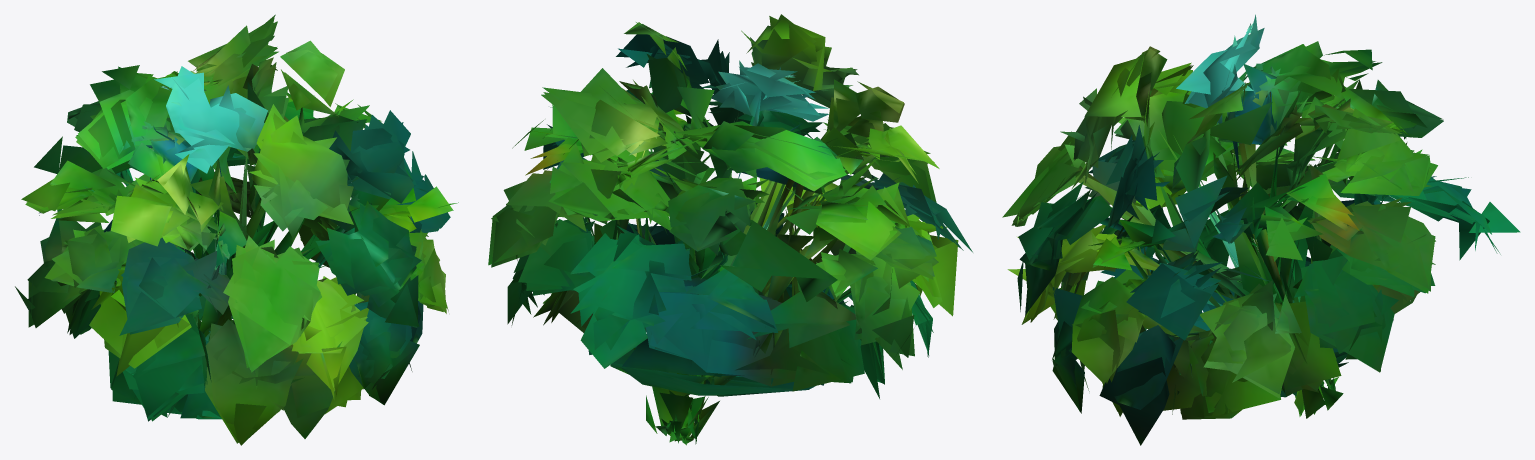
File: jungle-bush.glb
3 renders of one model, left to right at view 1: azimuth 30°, elevation 25°; view 2: azimuth 150°, elevation 25°; view 3: azimuth 270°, elevation 25°, orthographic. The views are drawn at different scales.
Visible parts, largest first — view 1: Mesh_0; view 2: Mesh_0; view 3: Mesh_0.
Boxes of the visible parts, x1,y1,x2,y2 form: Mesh_0: (15, 14, 458, 445); Mesh_0: (488, 14, 972, 445); Mesh_0: (1002, 14, 1520, 445).
Bounding box in the file's own units: 1.16 × 0.9847 × 1.26.
Materials: 1 (1 with a texture image).
